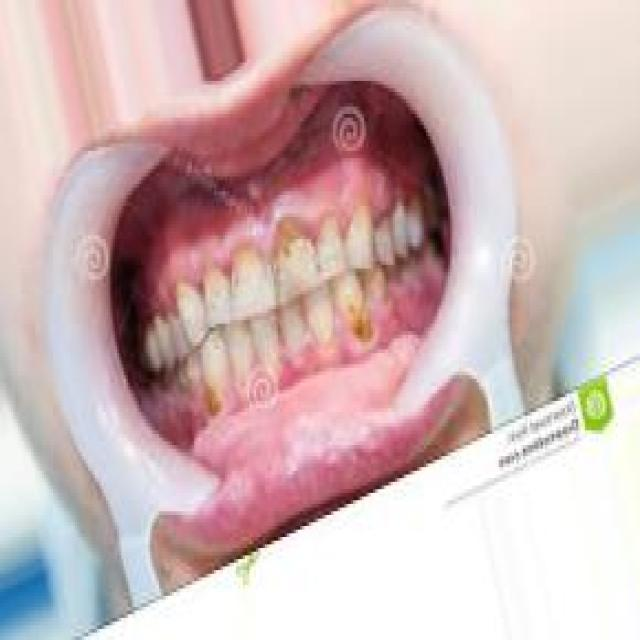caries: (268, 210, 318, 276)
